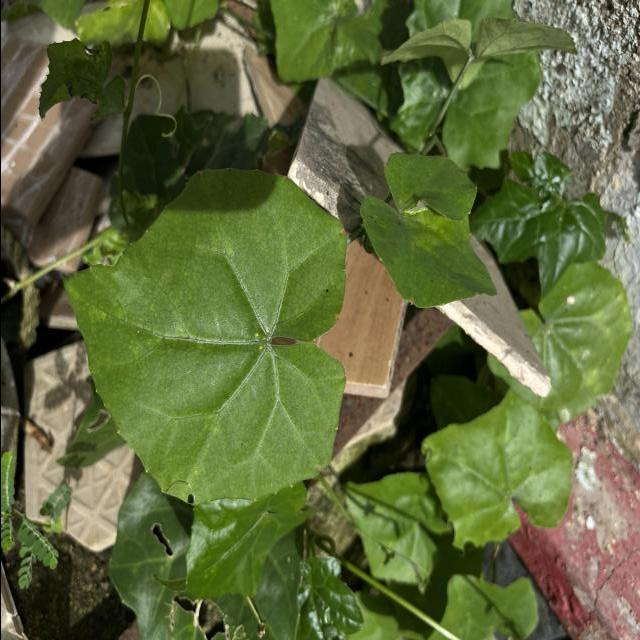Coccinia grandis: (57, 163, 350, 512)
